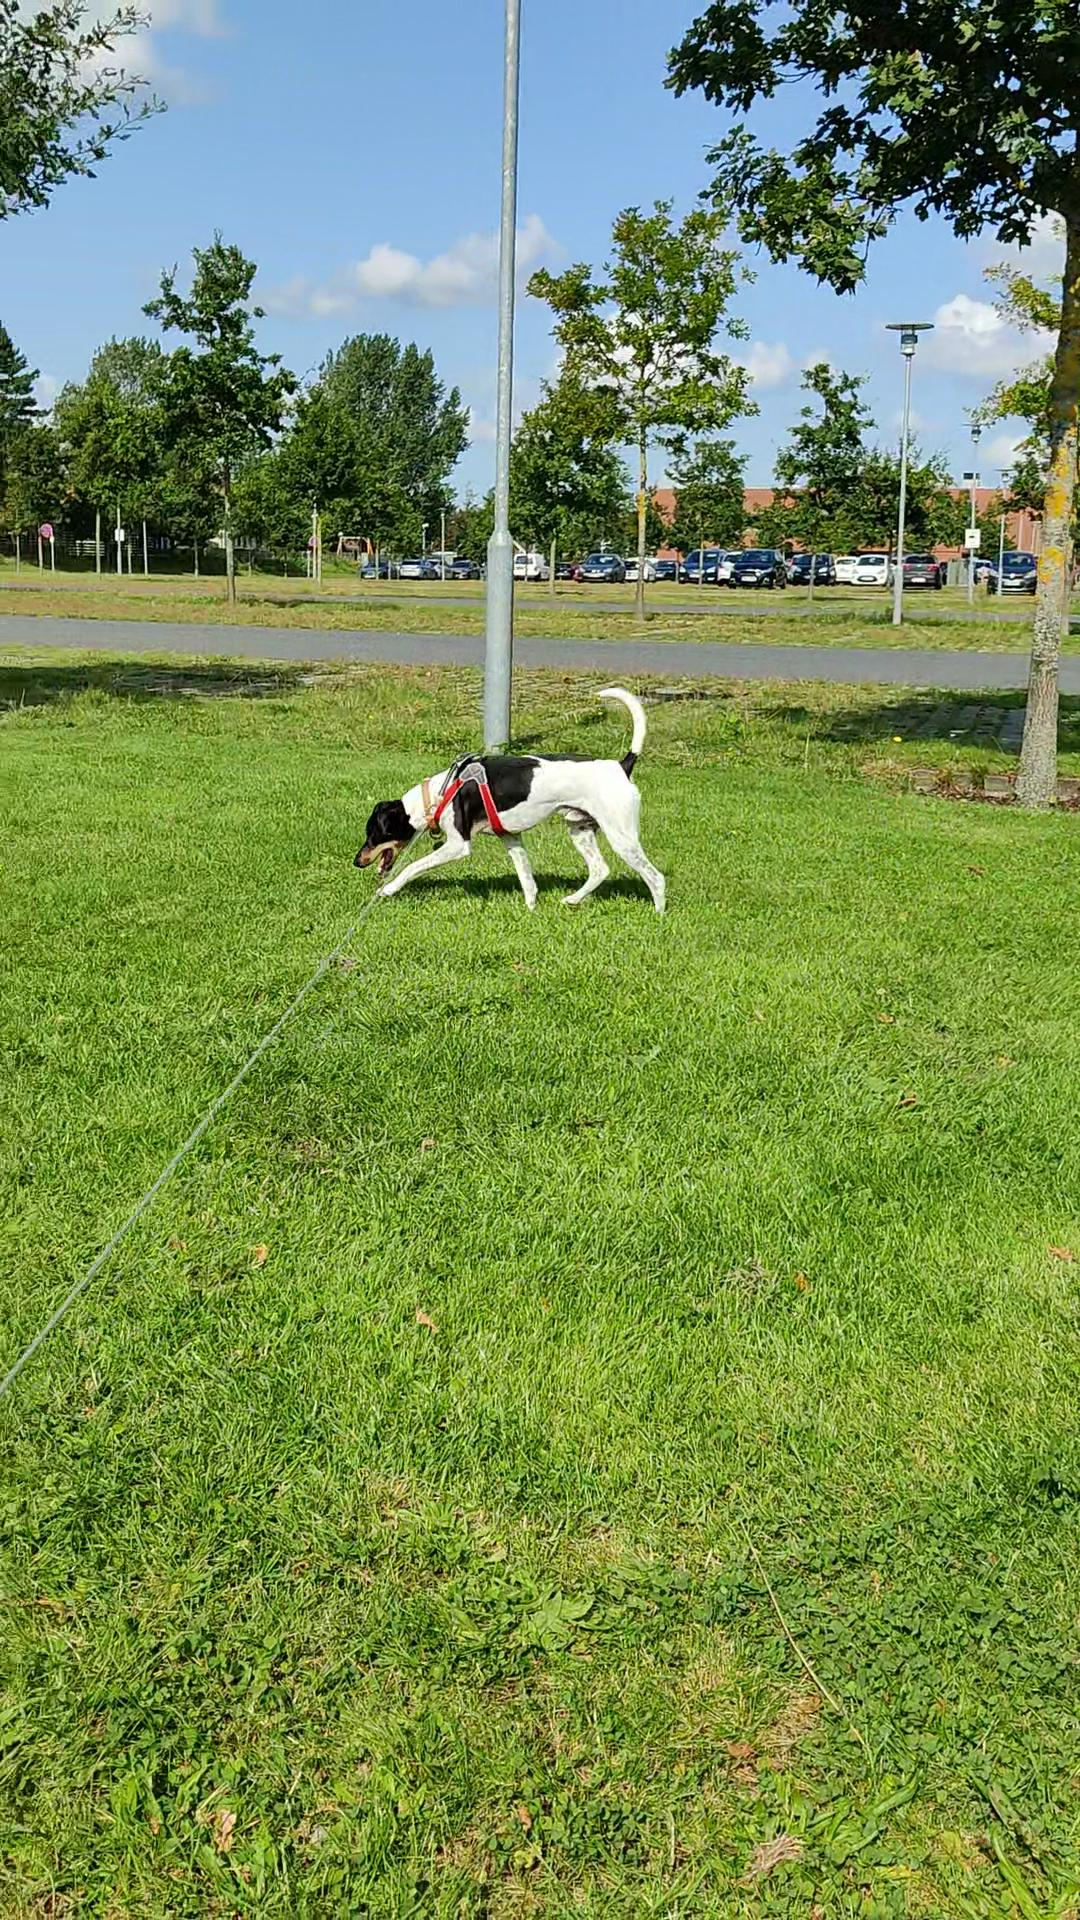Dog: (349, 679, 671, 914)
